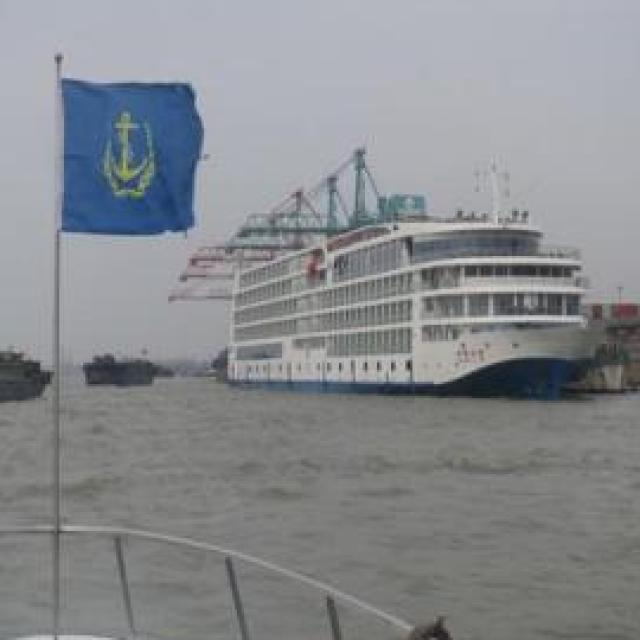passenger ship: (212, 193, 586, 397)
